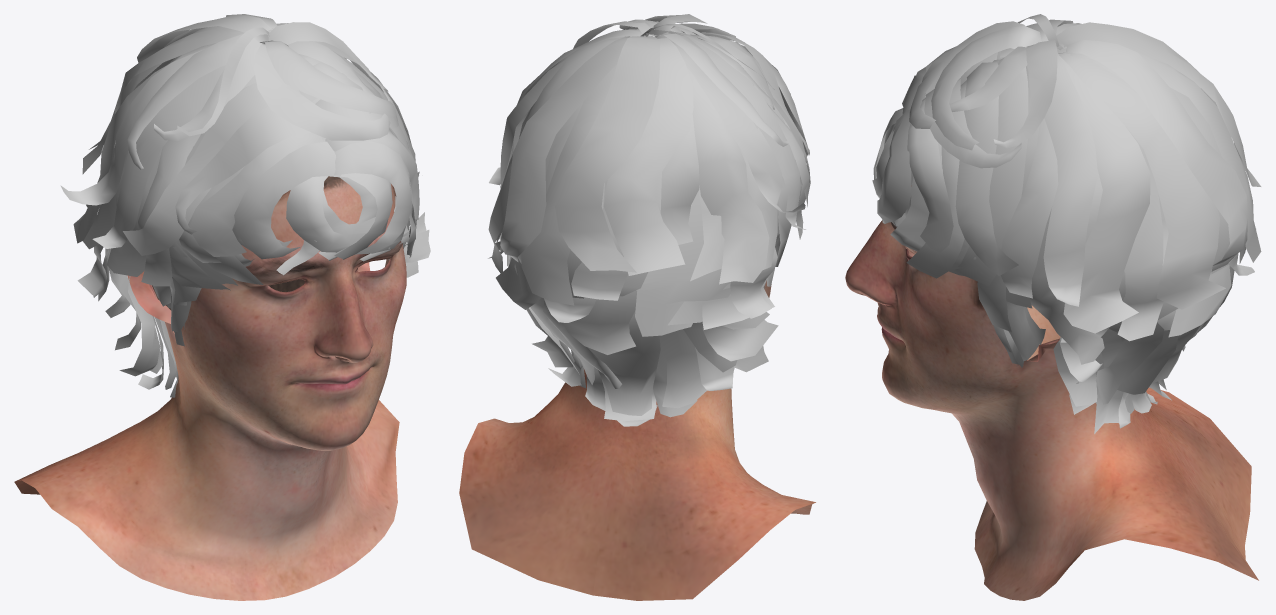
Rendered from Cabeza.obj.
3 renders of one model, left to right at view 1: azimuth 30°, elevation 25°; view 2: azimuth 150°, elevation 25°; view 3: azimuth 270°, elevation 25°, orthographic. The views are drawn at different scales.
Parts seen in each view (by area): view 1: Object_11; view 2: Object_11; view 3: Object_11.
Boxes of the visible parts, x1,y1,x2,y2 form: Object_11: (14,14,430,600); Object_11: (459,14,815,600); Object_11: (845,14,1261,600).
Size of the model in its own units: 0.4516 by 0.6587 by 0.4549.
